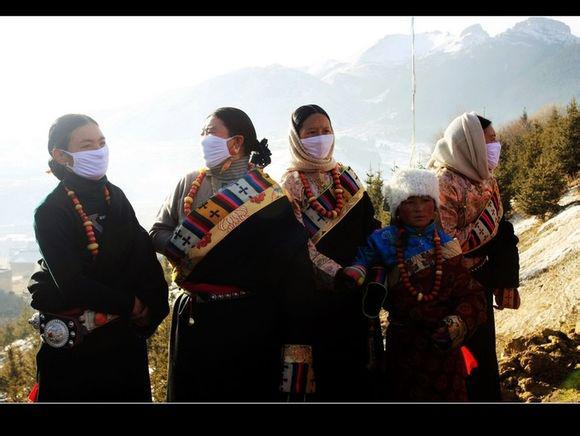NONE: (404, 195, 435, 225)
OK: (68, 127, 122, 181), (202, 123, 243, 168), (302, 124, 335, 160), (476, 133, 503, 167)
